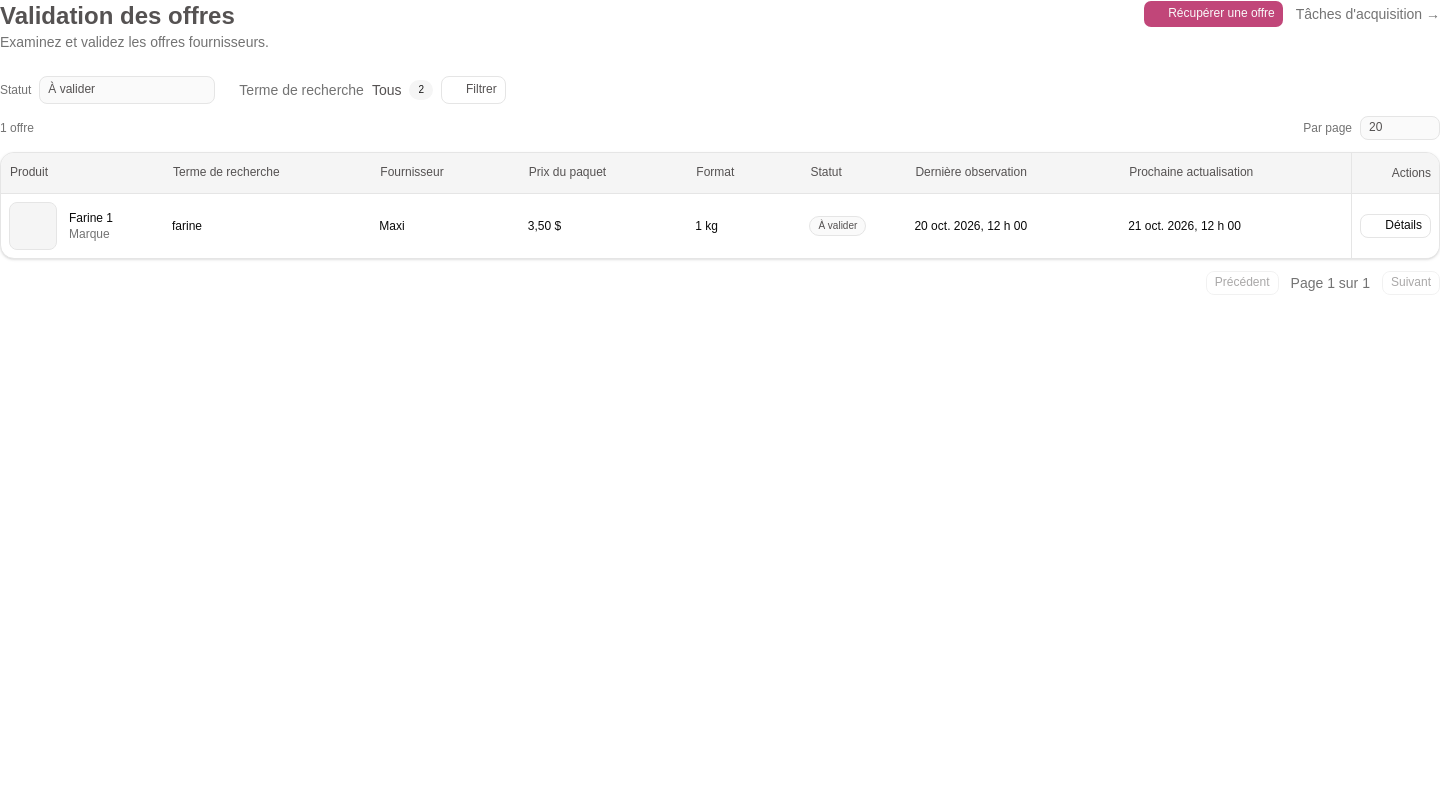
Test case: Procurement review › shows collection information in the body and drawer actions in the footer
Check: the heading "Validation des offres" is shown, box [0,0,269,32]
Check: the text "Statut" is shown, box [0,84,31,96]
Step 1. Click the button with aria-label "Consulter Farine 1" → [1396, 226], box [1360,214,1431,238]
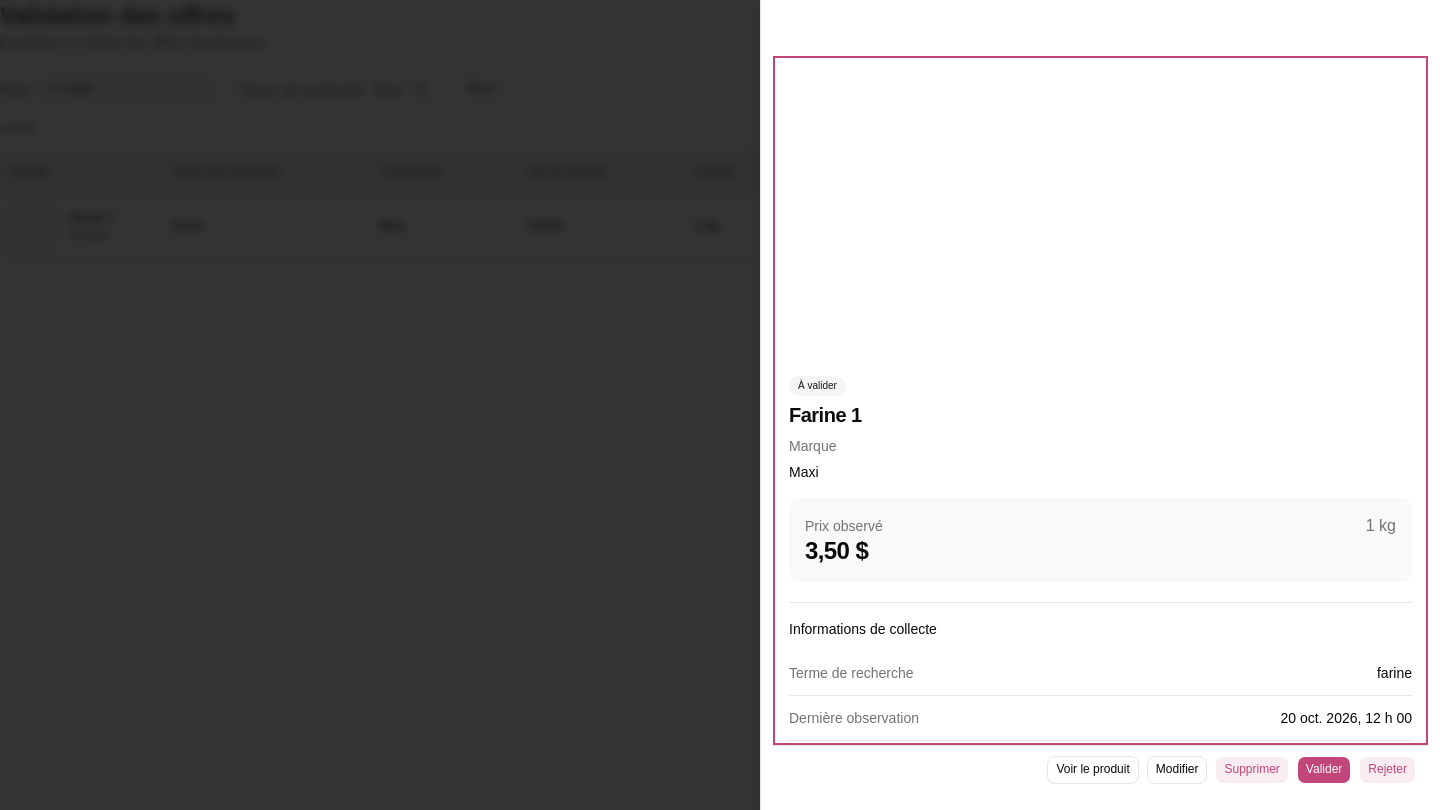
Check: the heading "Farine 1" is shown, box [789,404,862,426]
Check: the text "3,50 $" is shown, box [805,537,868,564]
Check: the heading "Informations de collecte" is shown, box [789,621,937,637]
